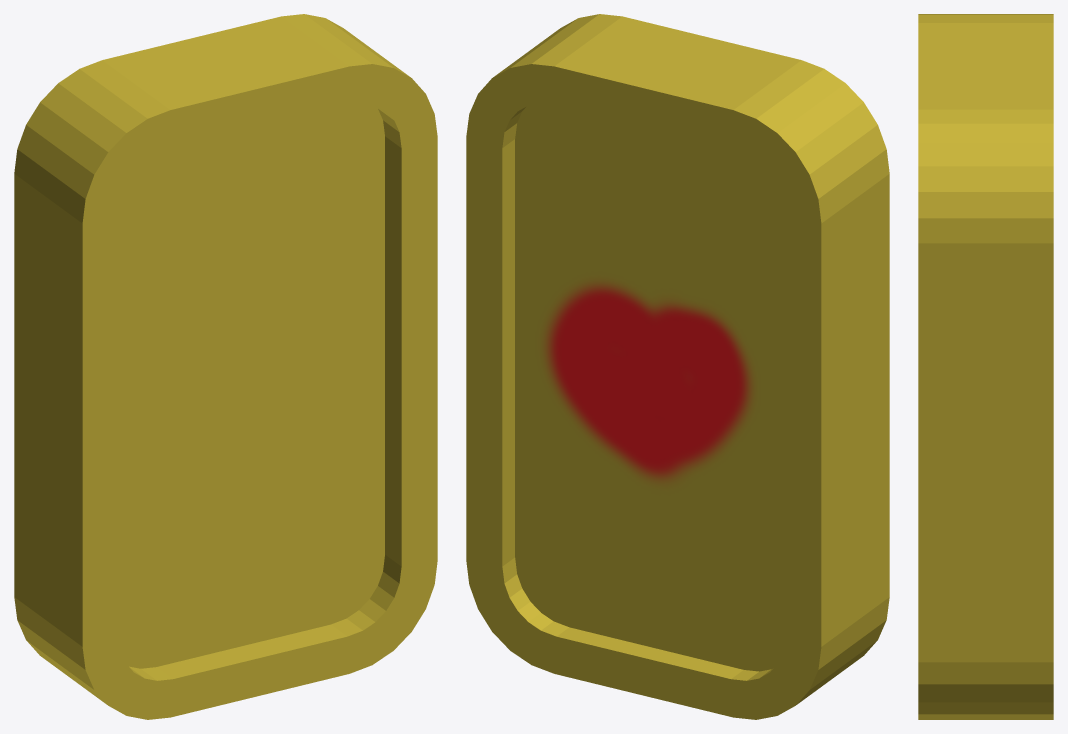
File: card.glb
3 renders of one model, left to right at view 1: azimuth 30°, elevation 25°; view 2: azimuth 150°, elevation 25°; view 3: azimuth 270°, elevation 25°, orthographic.
Parts seen in each view (by area): view 1: Cube; view 2: Cube; view 3: Cube.
Part boxes in pixels (x1,y1,x2,y2): Cube: (14, 14, 437, 719); Cube: (466, 14, 889, 719); Cube: (918, 14, 1053, 719).
Size of the model in its own units: 0.5993 by 0.9795 by 0.1996.
Materials: 1 (1 with a texture image).
